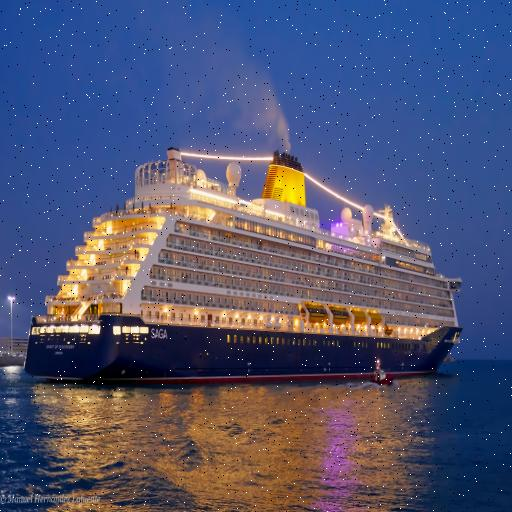cruises: (20, 143, 466, 396)
